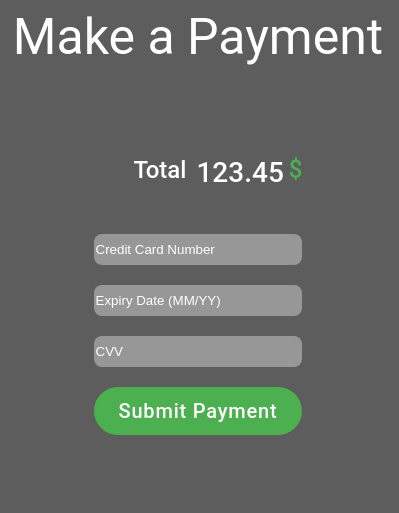
Test case: PaymentPage › shows error message on failed payment
This screenshot has width=399, height=513.
Type "4111111111111111" into the field with placeholder "Credit Card Number". click: (198, 250)
box: [94,234,302,265]
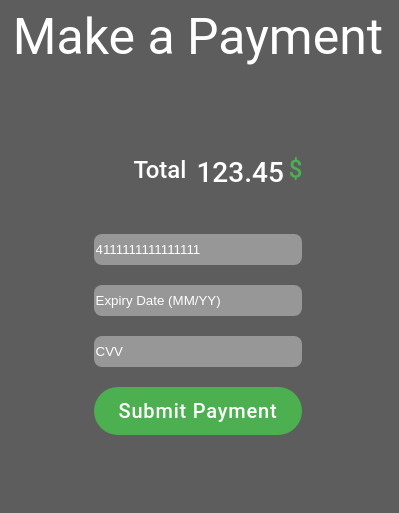
Type "12/25" into the field with placeholder "Expiry Date (MM/YY)". click: (198, 300)
box: [94,285,302,316]
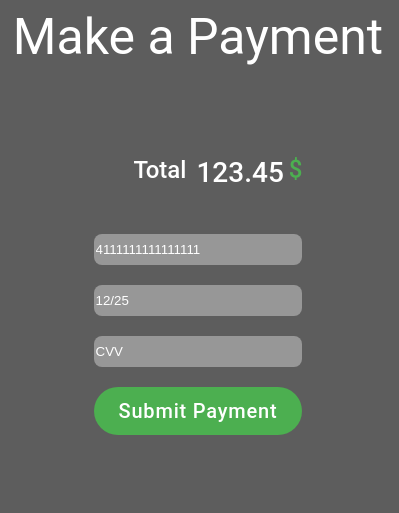
Type "123" into the field with placeholder "CVV". click: (198, 352)
box: [94,336,302,367]
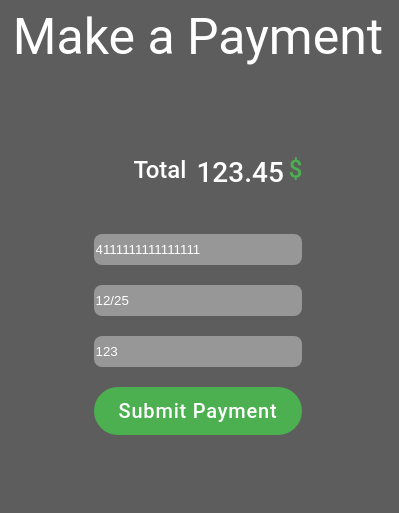
Click the button "Submit Payment". click: (198, 411)
box: [94,387,302,435]
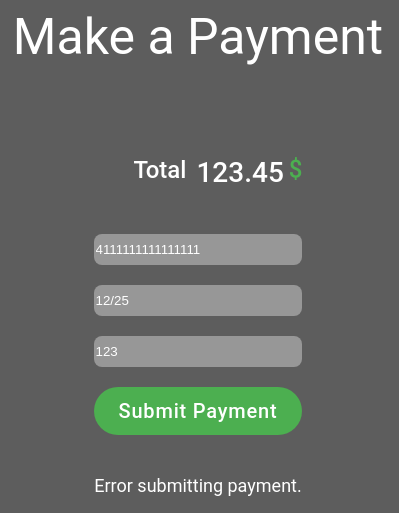
expect the text "Error submitting payment." is shown: met, box [94,475,302,496]
